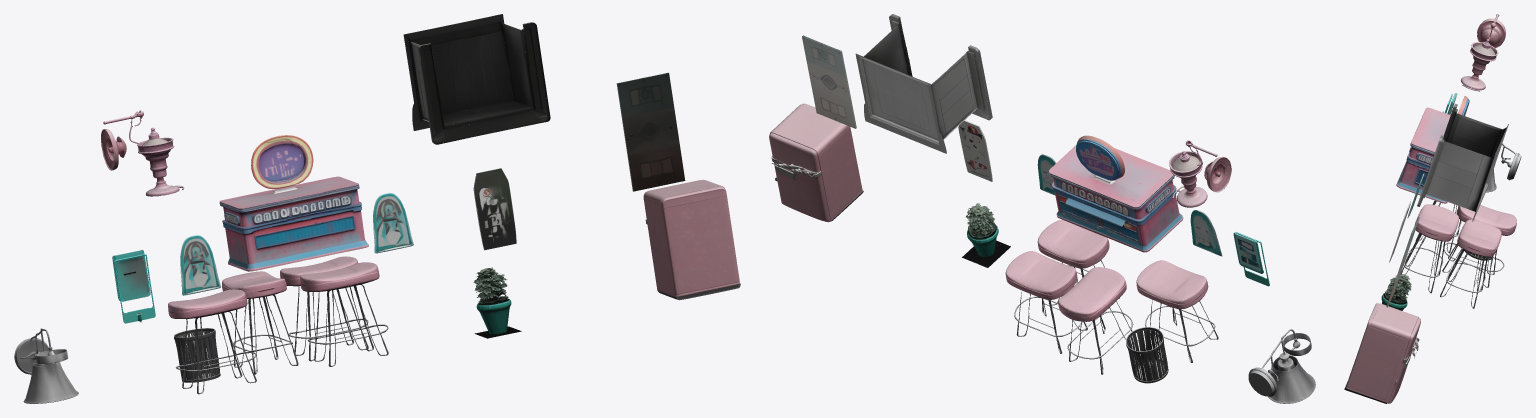
File: gallery-sage-857d2e57-web.glb
3 views of the same model, side by side, from view 1: azimuth 30°, elevation 25°; view 2: azimuth 150°, elevation 25°; view 3: azimuth 270°, elevation 25° (orthographic). The views are drawn at different scales.
Visible parts, largest first — view 1: instance_0, instance_4, instance_7, instance_15, instance_2, instance_8, instance_9, instance_6, instance_11, instance_1, instance_3, instance_10 (+4 smaller); view 2: instance_4, instance_0, instance_7, instance_11, instance_8, instance_10, instance_15, instance_2, instance_9, instance_1, instance_12, instance_5 (+4 smaller); view 3: instance_0, instance_7, instance_4, instance_10, instance_9, instance_1, instance_11, instance_5, instance_2, instance_15.
Part boxes in pixels (x1,y1,x2,y2): instance_0: (403, 14, 550, 144); instance_4: (219, 135, 368, 271); instance_7: (643, 179, 740, 300); instance_15: (616, 72, 685, 191); instance_2: (14, 328, 78, 403); instance_8: (168, 289, 256, 394); instance_9: (300, 262, 388, 366); instance_6: (473, 168, 516, 250); instance_11: (222, 271, 298, 374); instance_1: (101, 110, 184, 196); instance_3: (112, 249, 155, 323); instance_10: (280, 256, 368, 361); instance_4: (1049, 135, 1183, 252); instance_0: (855, 14, 992, 153); instance_7: (769, 103, 863, 222); instance_11: (1058, 267, 1137, 374); instance_8: (1136, 260, 1218, 362); instance_10: (1005, 251, 1087, 353); instance_15: (802, 35, 856, 128); instance_2: (1248, 329, 1315, 403); instance_9: (1037, 219, 1119, 321); instance_1: (1169, 140, 1231, 207); instance_12: (1126, 327, 1168, 383); instance_5: (962, 203, 1010, 267); instance_0: (1417, 103, 1508, 221); instance_7: (1344, 303, 1420, 403); instance_4: (1396, 96, 1469, 203); instance_10: (1440, 219, 1501, 308); instance_9: (1400, 204, 1458, 293); instance_1: (1461, 14, 1505, 91); instance_11: (1442, 204, 1516, 287); instance_5: (1381, 273, 1411, 310); instance_2: (1486, 143, 1521, 192); instance_15: (1386, 217, 1419, 307).
Size of the model in its own units: 3.3 by 1.51 by 1.02.
Materials: 16 (16 with a texture image).
